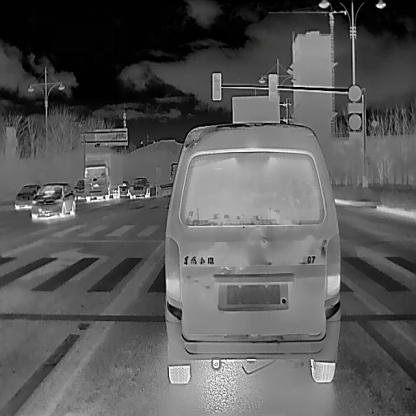car: (162, 122, 342, 384), (30, 182, 76, 220), (13, 184, 35, 209), (130, 177, 148, 197), (118, 180, 129, 195), (74, 180, 83, 198)
truck: (83, 151, 122, 200)
